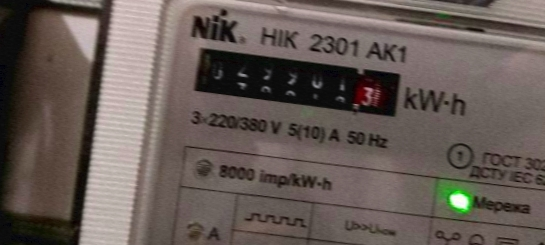0: (308, 63, 326, 90), (208, 57, 226, 80)
1: (333, 67, 349, 92)
2: (233, 57, 252, 78)
3: (359, 82, 375, 105)
9: (284, 62, 300, 86), (259, 59, 274, 82)
screen: (179, 34, 413, 127)
